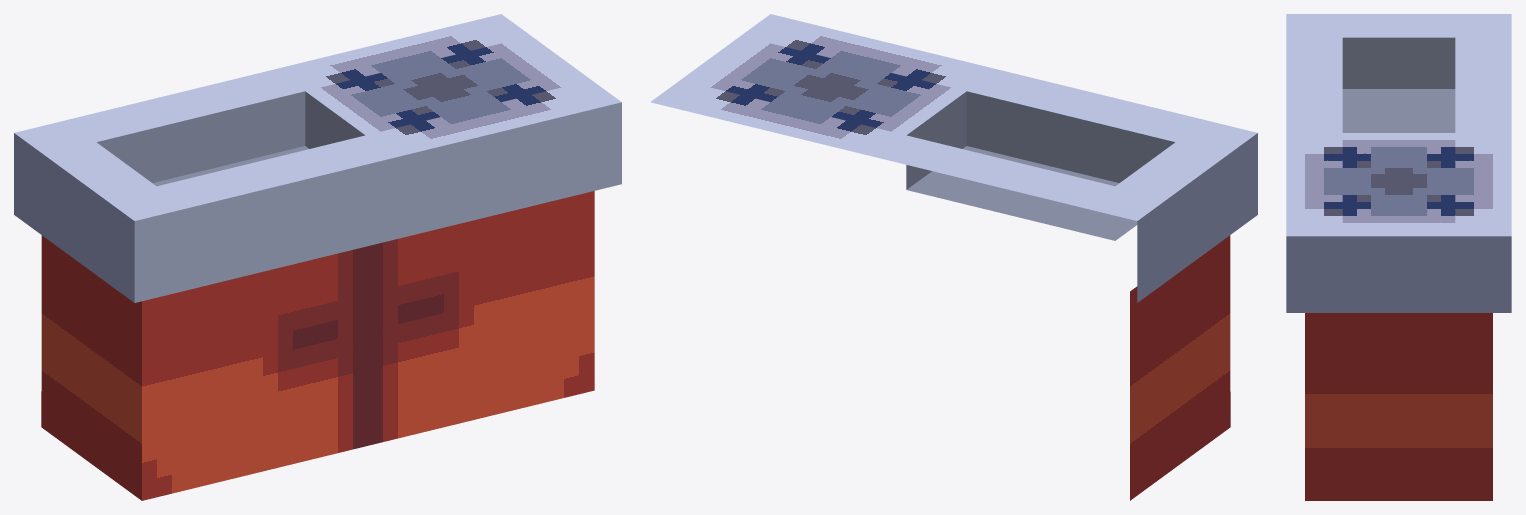
3 views of the same model, side by side, from view 1: azimuth 30°, elevation 25°; view 2: azimuth 150°, elevation 25°; view 3: azimuth 270°, elevation 25° (orthographic). The views are drawn at different scales.
Parts seen in each view (by area): view 1: sink01; view 2: sink01; view 3: sink01.
Boxes of the visible parts, bbox=[...] form: sink01: bbox=[14, 14, 621, 500]; sink01: bbox=[650, 14, 1257, 500]; sink01: bbox=[1286, 14, 1511, 500].
Bounding box in the file's own units: 1.75 × 1 × 0.75.
1 material, 1 textured.
